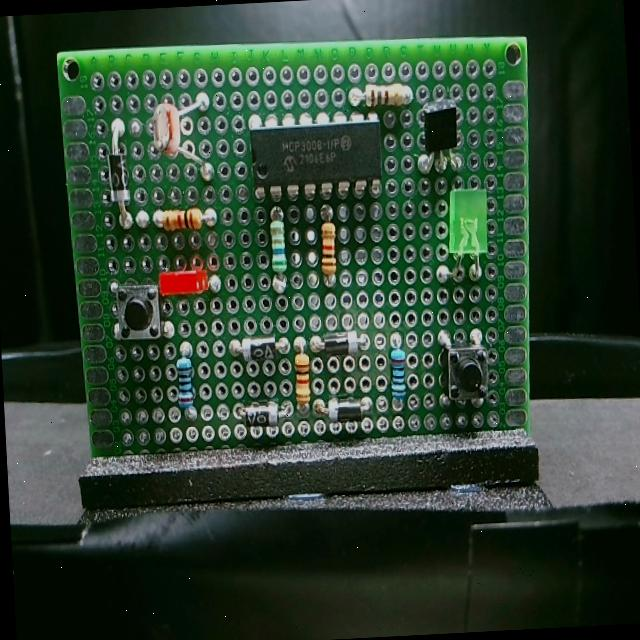IC: (245, 105, 385, 206)
cds: (148, 89, 222, 190)
diode: (102, 110, 138, 242), (225, 334, 292, 370), (234, 398, 296, 430), (314, 394, 376, 426), (311, 330, 378, 358)
led: (440, 184, 497, 284), (155, 266, 223, 303)
resistor: (314, 198, 344, 299), (172, 338, 205, 428), (264, 206, 296, 297), (344, 80, 418, 114), (290, 332, 315, 426), (152, 203, 220, 235), (388, 330, 412, 420)
switch: (436, 324, 496, 420), (106, 278, 176, 346)
transistor: (417, 97, 470, 180)
